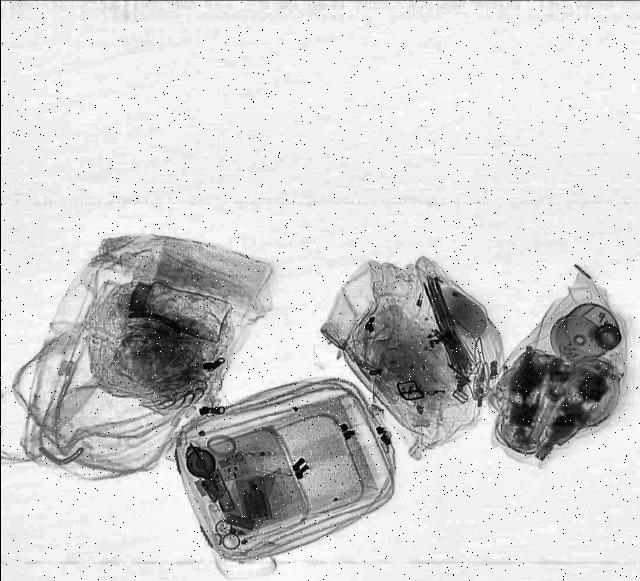Wrench: (517, 382, 569, 452)
